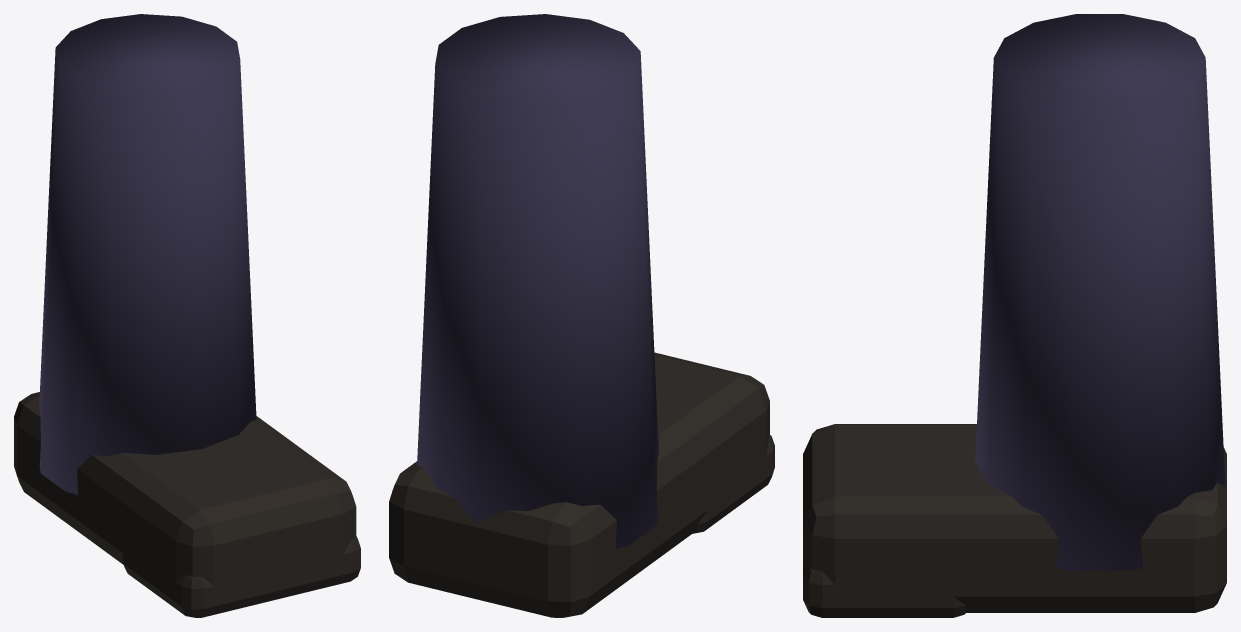
File: fig_shin.glb
The picture shows the model from 3 angles, left to right: view 1: azimuth 30°, elevation 25°; view 2: azimuth 150°, elevation 25°; view 3: azimuth 270°, elevation 25°; orthographic projection. The views are drawn at different scales.
Visible parts, largest first — view 1: trouser2_shin, shoe, shoe_toe; view 2: trouser2_shin, shoe, shoe_toe; view 3: trouser2_shin, shoe, shoe_toe.
Boxes of the visible parts, box(x1,y1,x2,y2) form: trouser2_shin: box(39, 14, 256, 494); shoe: box(14, 392, 356, 596); shoe_toe: box(122, 536, 360, 617); trouser2_shin: box(417, 14, 658, 549); shoe: box(389, 352, 769, 617); shoe_toe: box(692, 435, 774, 533); trouser2_shin: box(975, 14, 1225, 570); shoe: box(803, 424, 1226, 612); shoe_toe: box(803, 565, 966, 617).
Bounding box in the file's own units: 0.117 × 0.27 × 0.2.
